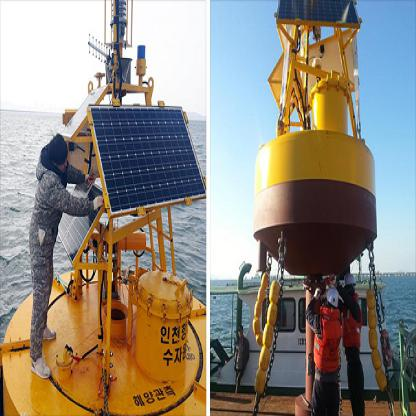buoy: (254, 0, 384, 246)
